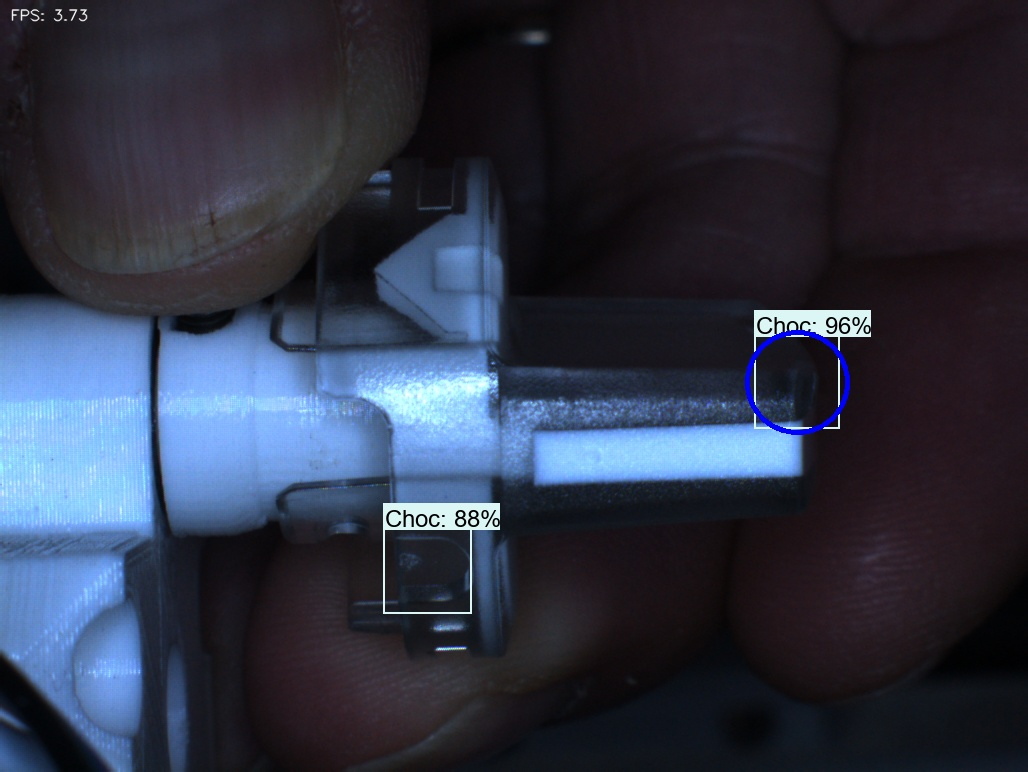DentOk: (347, 230, 425, 324)
